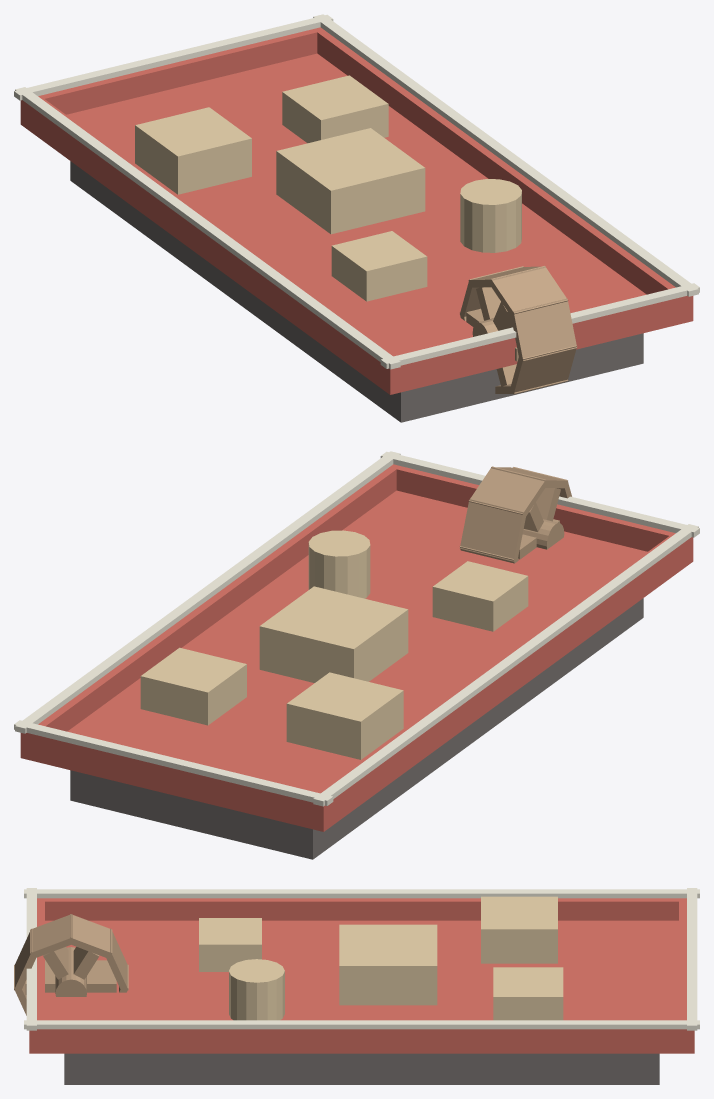
Rendered from barge.glb.
3 renders of one model, top to bottom at view 1: azimuth 30°, elevation 25°; view 2: azimuth 150°, elevation 25°; view 3: azimuth 270°, elevation 25°, orthographic. The views are drawn at different scales.
Visible parts, largest first — view 1: barge_hull, barge_cargo, barge_wheel; view 2: barge_hull, barge_cargo, barge_wheel; view 3: barge_hull, barge_cargo, barge_wheel.
Boxes of the visible parts, x1,y1,x2,y2 form: barge_hull: (14, 14, 699, 422); barge_cargo: (135, 75, 521, 301); barge_wheel: (460, 266, 576, 394); barge_hull: (14, 451, 699, 859); barge_cargo: (140, 530, 528, 759); barge_wheel: (459, 466, 571, 563); barge_hull: (24, 888, 699, 1084); barge_cargo: (199, 896, 563, 1020); barge_wheel: (14, 914, 128, 1015).
Bounding box in the file's own units: 1.86 × 0.6669 × 3.92.
